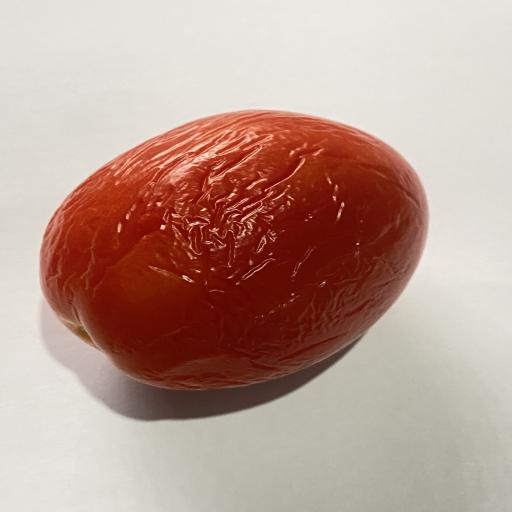spoiled: (40, 110, 428, 389)
